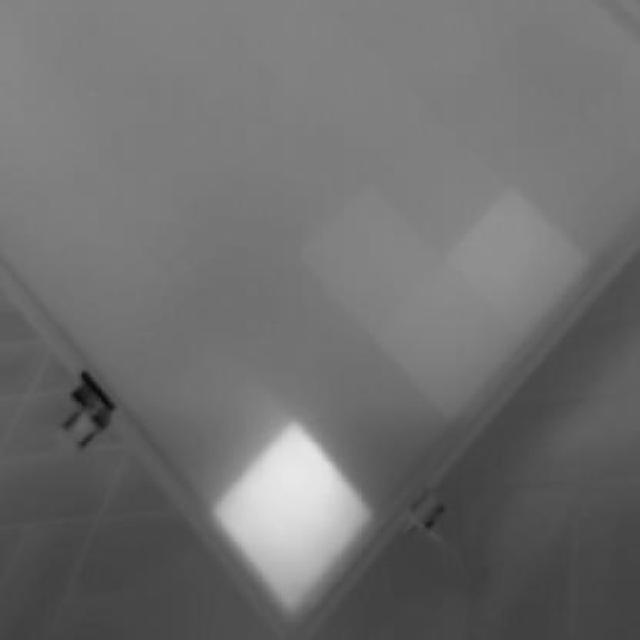hotspot: (205, 410, 388, 625)
